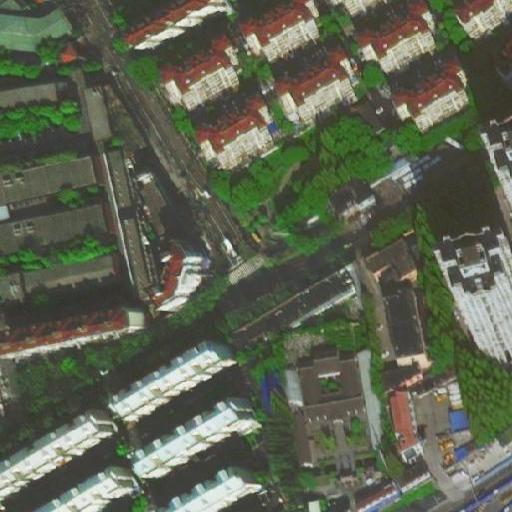building: (0, 152, 118, 267), (231, 266, 364, 347), (112, 340, 231, 421), (137, 399, 256, 480), (4, 418, 114, 496), (3, 308, 142, 354), (356, 3, 443, 75), (276, 55, 361, 125), (194, 106, 280, 170), (165, 47, 245, 113), (144, 237, 210, 314), (18, 254, 122, 299), (35, 465, 135, 511), (245, 5, 327, 59), (392, 70, 468, 127), (295, 353, 367, 412), (366, 140, 434, 201), (378, 274, 425, 355), (136, 165, 185, 235), (285, 311, 360, 355), (358, 351, 389, 457), (0, 111, 88, 148), (366, 234, 422, 286), (466, 307, 512, 365), (350, 88, 401, 138), (0, 74, 72, 108), (328, 176, 377, 220), (389, 389, 421, 456), (88, 84, 120, 141), (104, 151, 136, 208), (120, 222, 152, 279), (352, 478, 399, 511), (292, 411, 318, 468), (374, 362, 419, 387), (445, 398, 469, 438), (282, 364, 304, 406), (492, 54, 511, 94), (415, 376, 450, 396), (271, 482, 288, 511), (297, 494, 323, 512)
